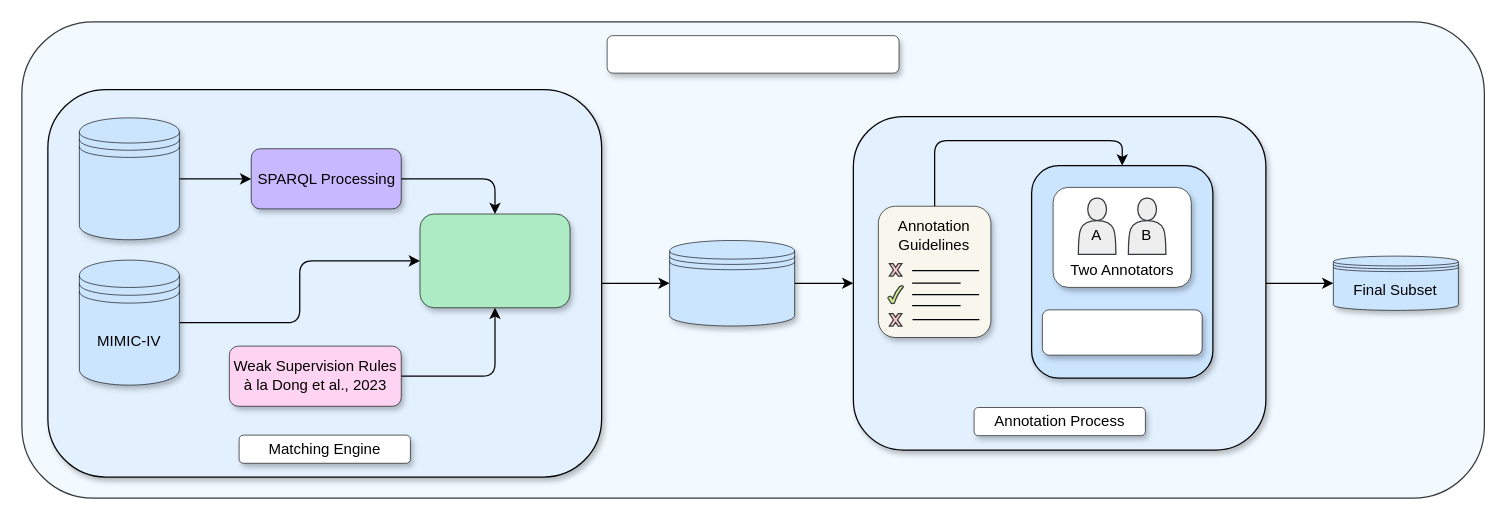
This 1506x520 diagram has some shape labels left out. Here are the shapes that lost their labels. From the top down, the centre of each, then its label:
At (753,56): "Rare Disease Dataset Pipeline".
At (130,180): "ORDO Ontology".
At (495,262): "Large-Scale Parallel Term Matching".
At (733,284): "MIMIC-IV Subset".
At (1122,334): "Two Rounds of IAA-Aware Annotations".
